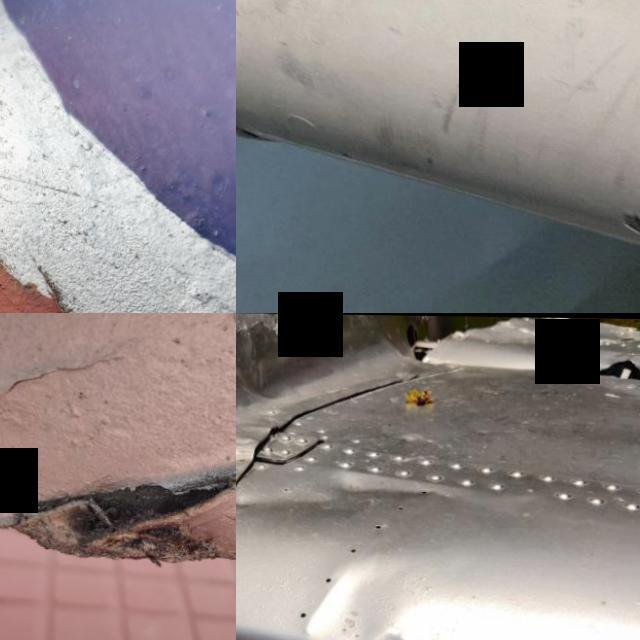Crack: (45, 444, 236, 567)
Dent: (267, 458, 447, 534), (360, 605, 529, 640)
